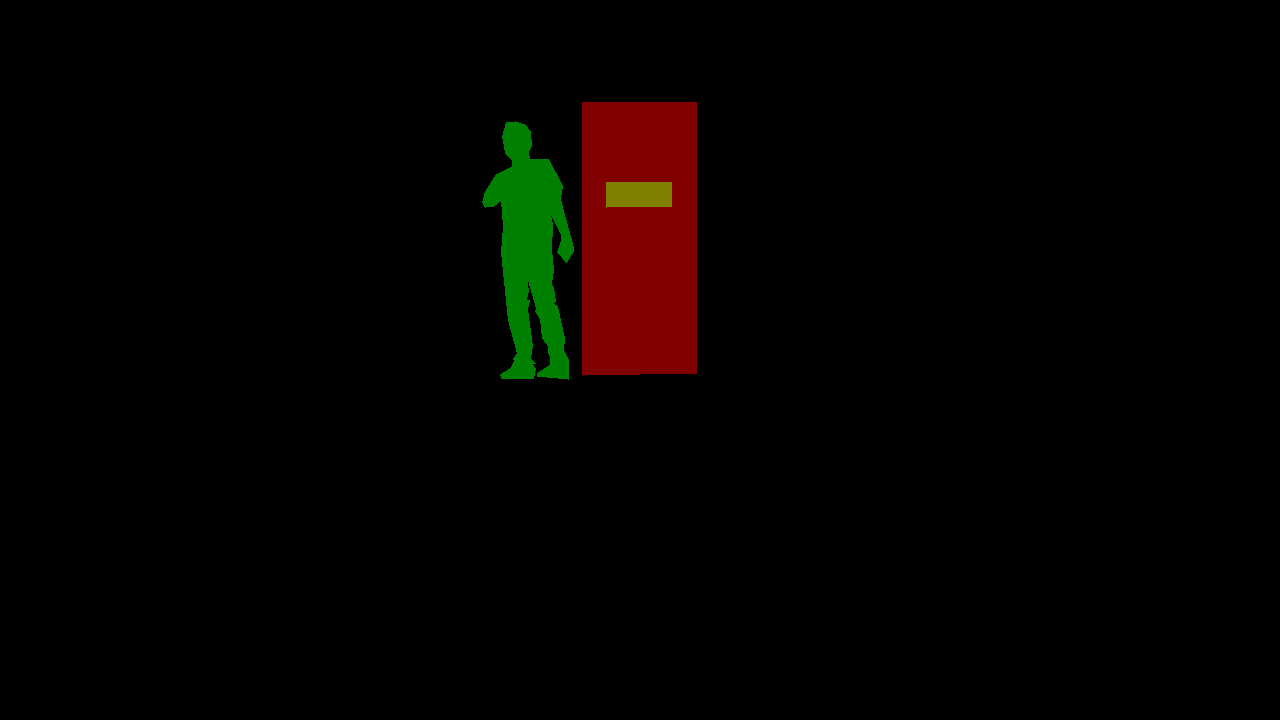door: (582, 102, 696, 375)
person: (482, 121, 573, 379)
sign: (606, 182, 671, 207)
